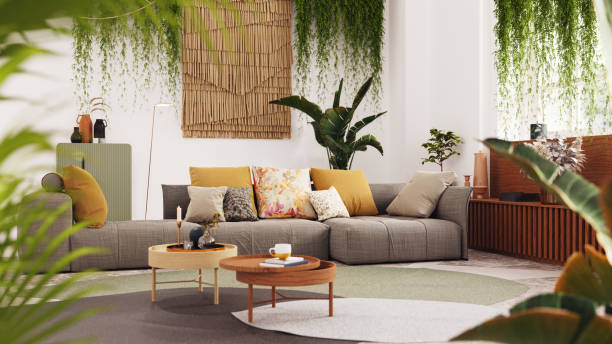floor lamp: (144, 101, 174, 221)
large plant: (268, 71, 387, 169), (421, 126, 462, 170)
small plant: (522, 137, 588, 206)
sofa: (14, 164, 476, 276)
table: (219, 254, 336, 324), (146, 239, 236, 307)
